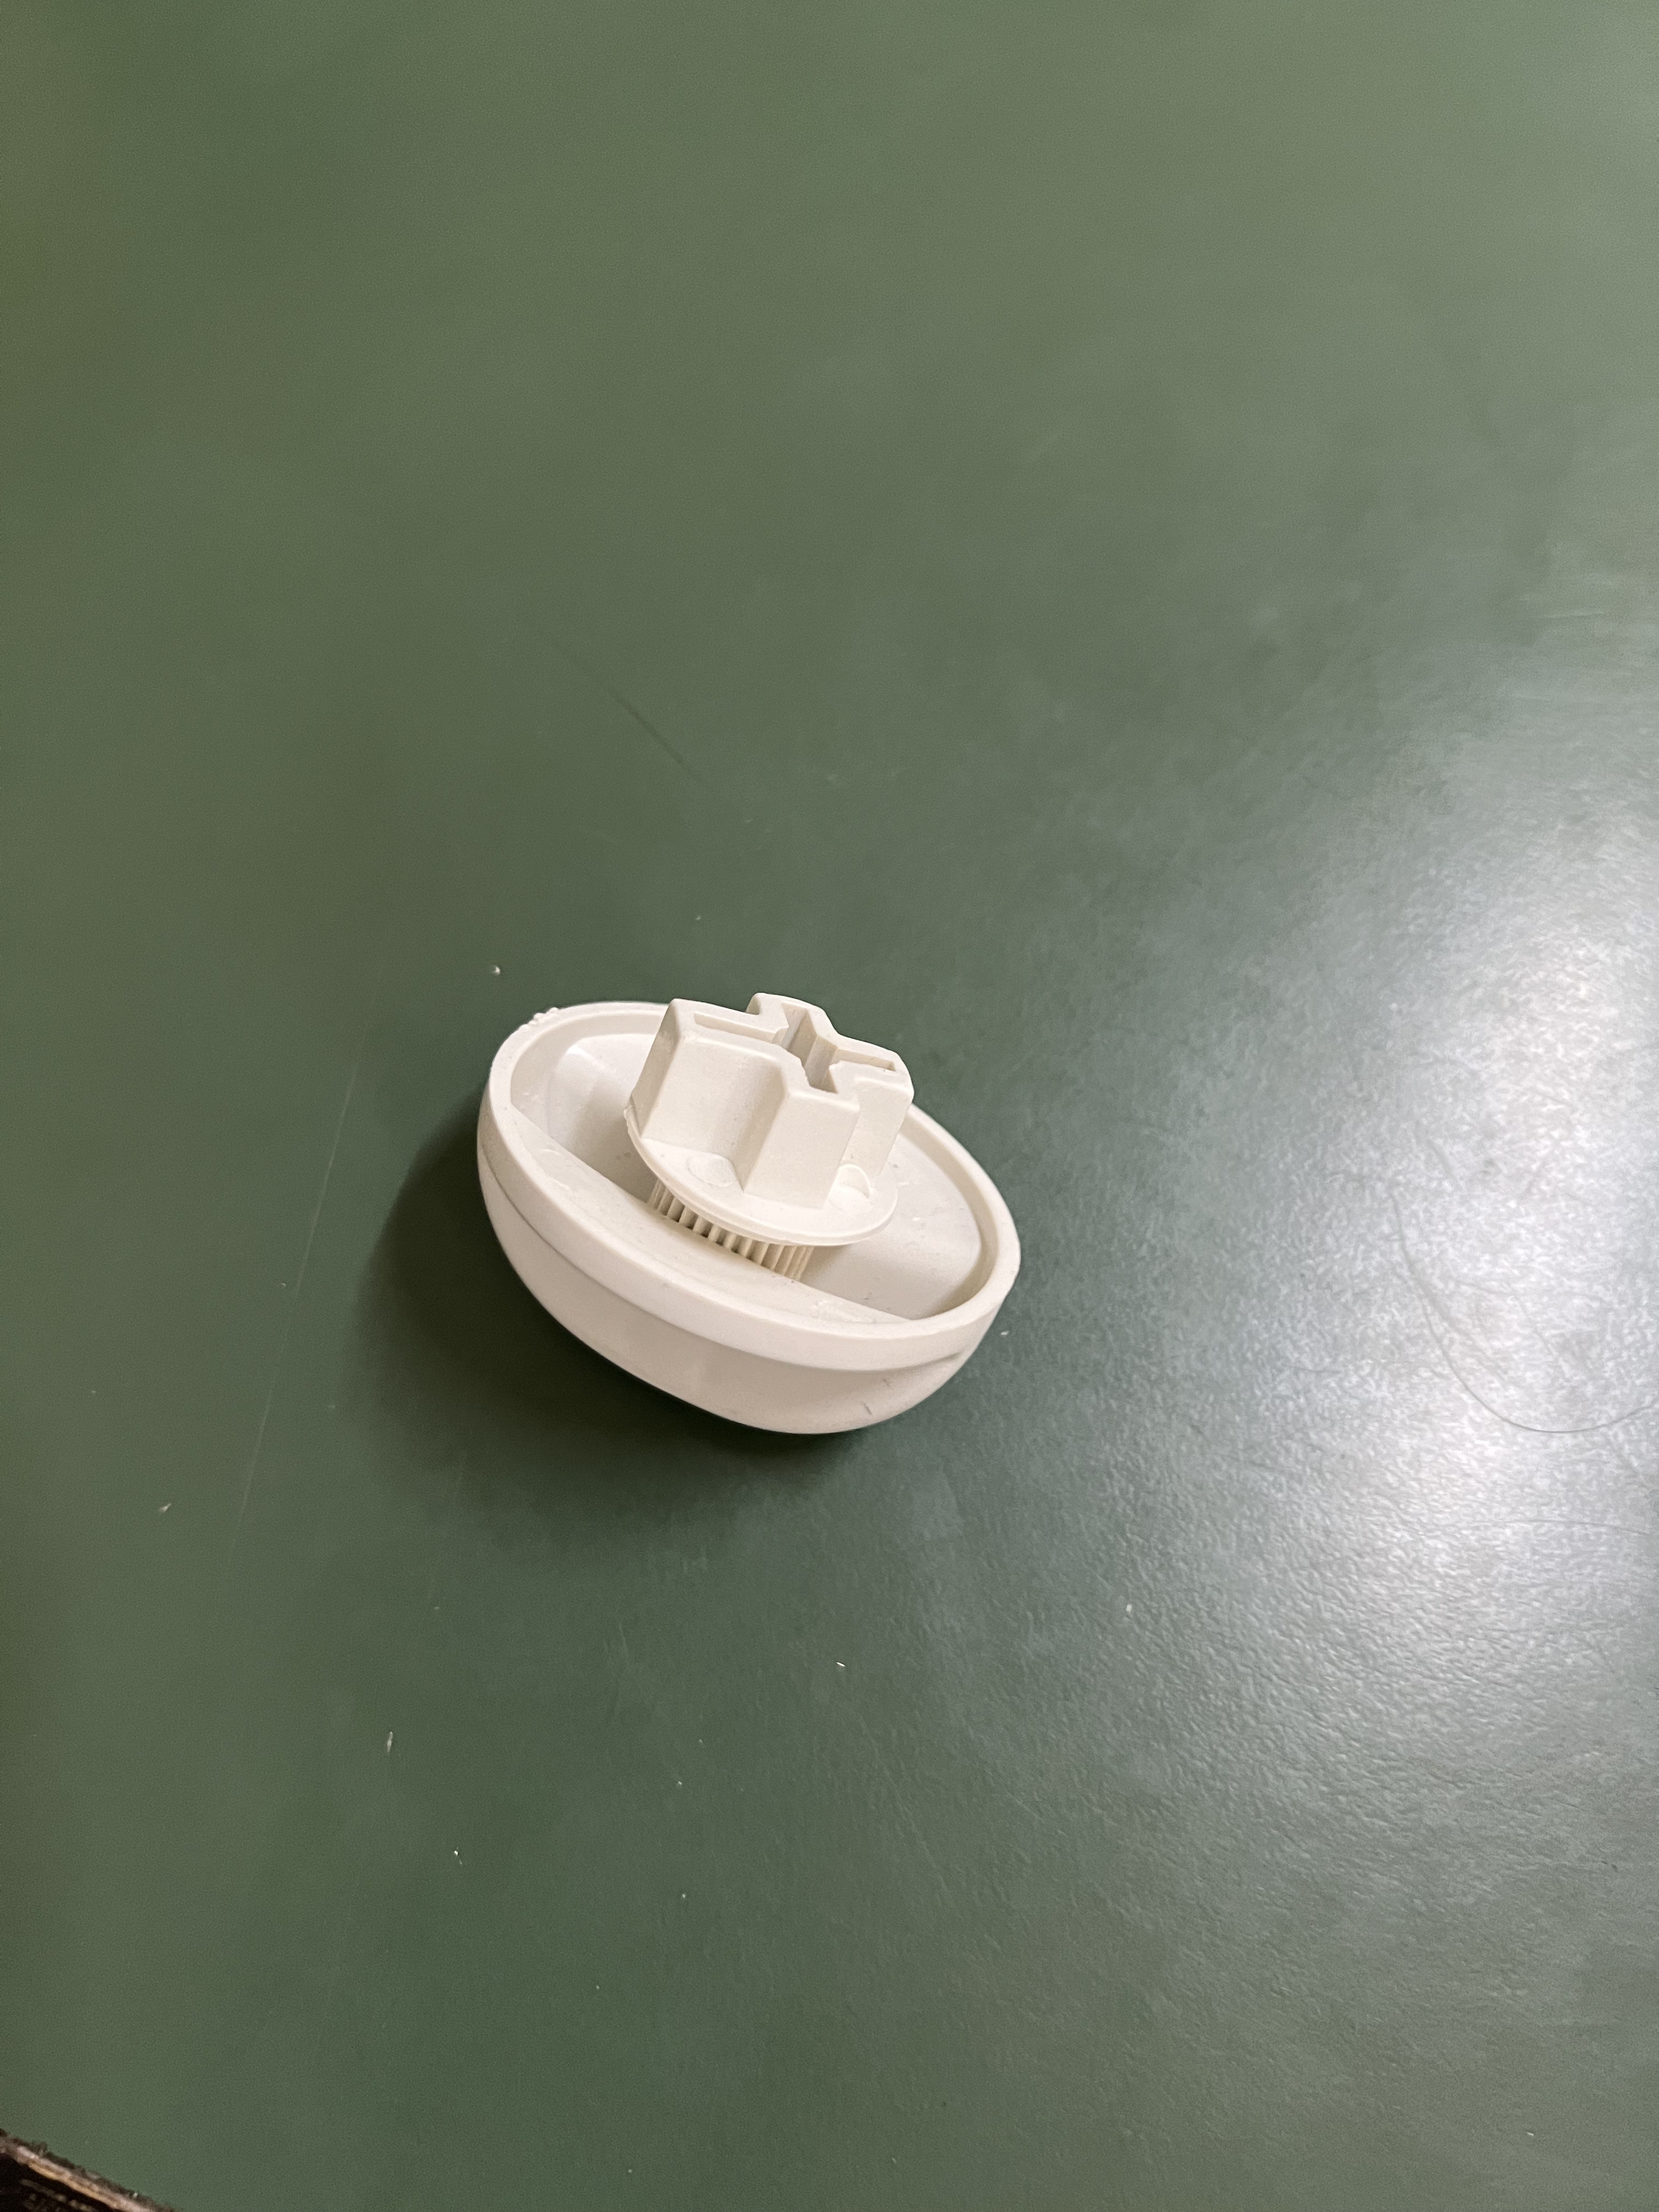regulator: (481, 975, 1037, 1461)
